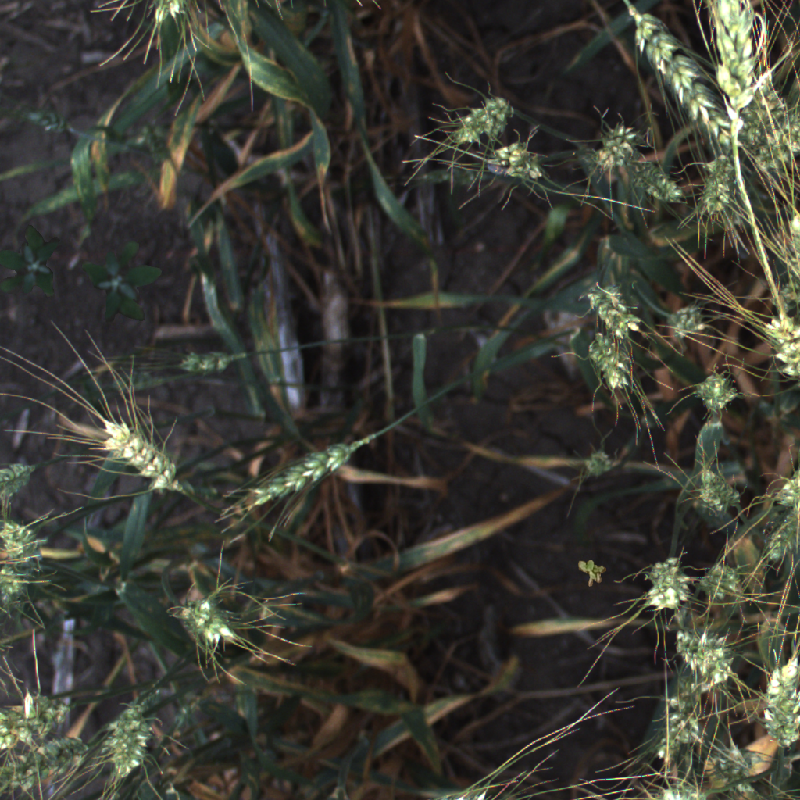spikelet: (622, 6, 743, 154), (700, 1, 764, 139), (242, 440, 355, 517), (1, 728, 95, 800), (100, 413, 182, 489), (1, 690, 78, 752), (757, 646, 800, 753), (104, 700, 154, 785), (750, 107, 800, 189), (671, 625, 737, 687), (657, 681, 703, 761), (640, 551, 692, 619), (585, 278, 642, 335), (449, 93, 509, 146), (760, 307, 800, 384), (175, 593, 233, 644), (621, 156, 683, 203), (714, 739, 760, 800), (588, 331, 633, 392), (692, 153, 733, 217), (762, 498, 800, 566), (699, 462, 741, 518), (1, 513, 45, 562), (488, 140, 544, 178), (695, 562, 746, 603), (175, 347, 241, 375), (693, 370, 738, 410), (594, 122, 632, 169), (136, 1, 192, 32), (768, 461, 800, 514), (653, 776, 714, 800), (1, 465, 40, 502), (664, 305, 703, 340), (579, 446, 617, 477), (784, 203, 800, 275), (1, 562, 30, 600)
weed: (1, 220, 79, 314), (82, 241, 162, 324), (578, 560, 606, 587)
